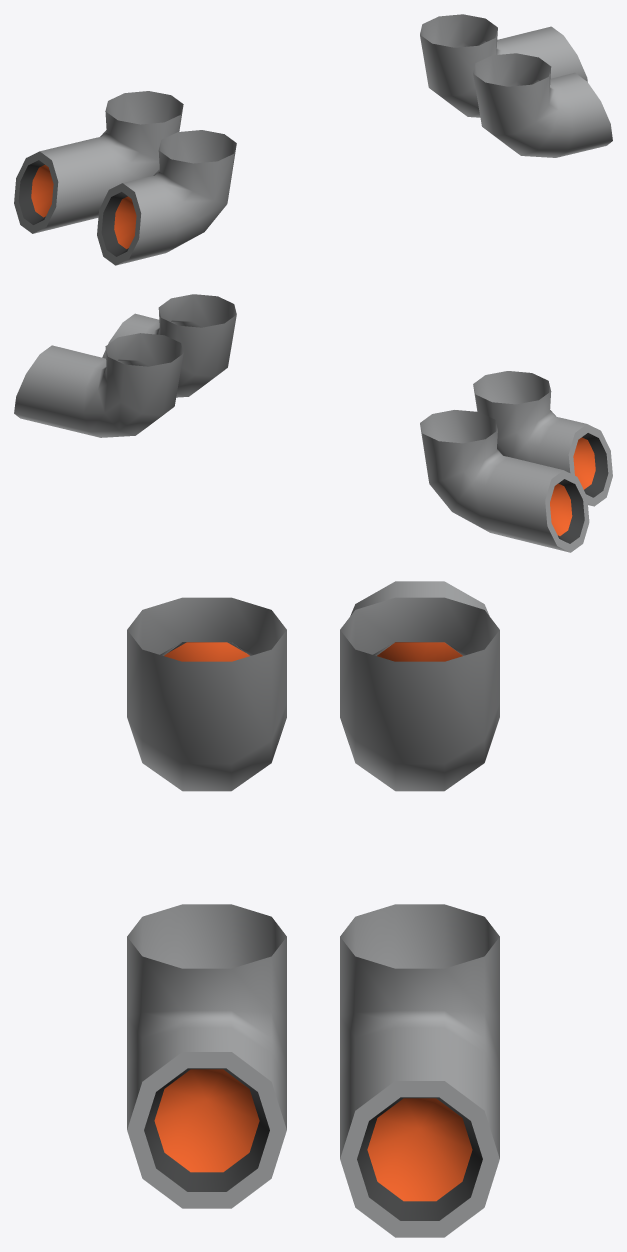
The model's file is Car_11_Turbine.fbx.
3 renders of one model, top to bottom at view 1: azimuth 30°, elevation 25°; view 2: azimuth 150°, elevation 25°; view 3: azimuth 270°, elevation 25°, orthographic. The views are drawn at different scales.
Visible parts, largest first — view 1: Car_11_Turbine; view 2: Car_11_Turbine; view 3: Car_11_Turbine.
Part boxes in pixels (bbox=[...]): Car_11_Turbine: bbox=[14, 14, 612, 265]; Car_11_Turbine: bbox=[14, 294, 612, 552]; Car_11_Turbine: bbox=[127, 581, 499, 1237].
Size of the model in its own units: 200 by 58.77 by 32.33.
